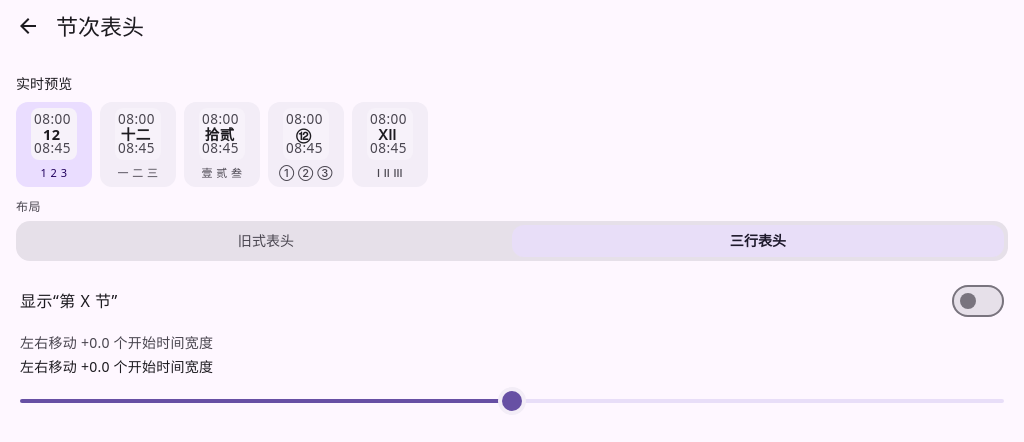
it: PeriodHeaderSettingsPage › updates hanging preview label during dragging but saves only when the pointer is released
Set the slider labelled "左右移动 +0.0 个开始时间宽度" to "0.5": {"x": 754, "y": 401} [20,377,1004,425]
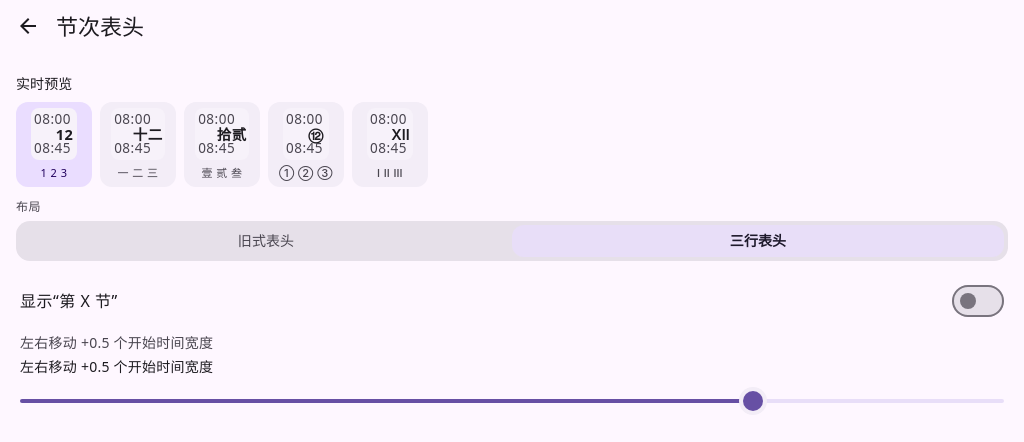
Check: the 1st text "左右移动 +0.5 个开始时间宽度" is shown, box [20,333,213,352]
